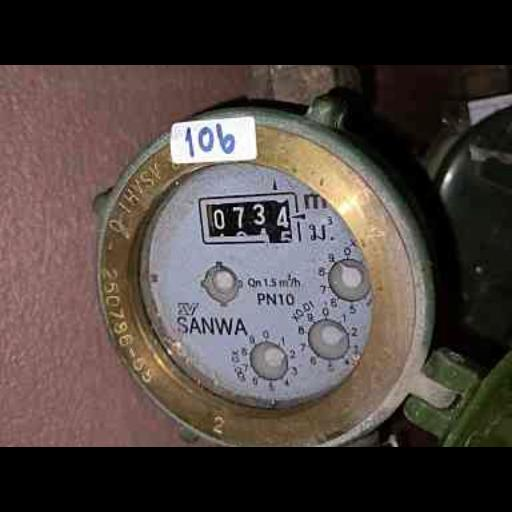0: (207, 202, 230, 238)
3: (248, 200, 270, 236)
4: (268, 200, 293, 244)
7: (226, 202, 250, 237)
border_water_meter_number: (199, 191, 302, 249)
